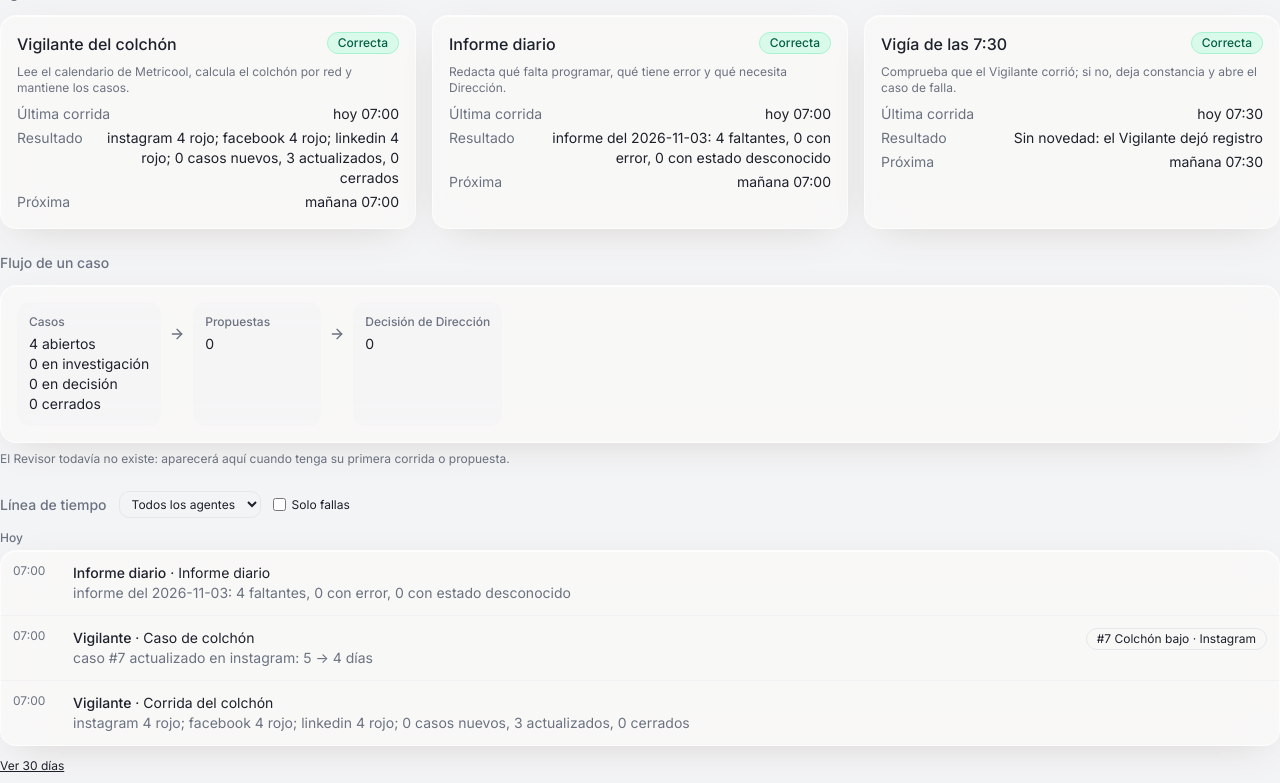
Test case: vista Agentes › la actividad antigua aparece al pedir 30 días
The image size is (1280, 783).
Click the button "Ver 30 días": (32, 766) [0, 758, 64, 774]
(page scrolled)
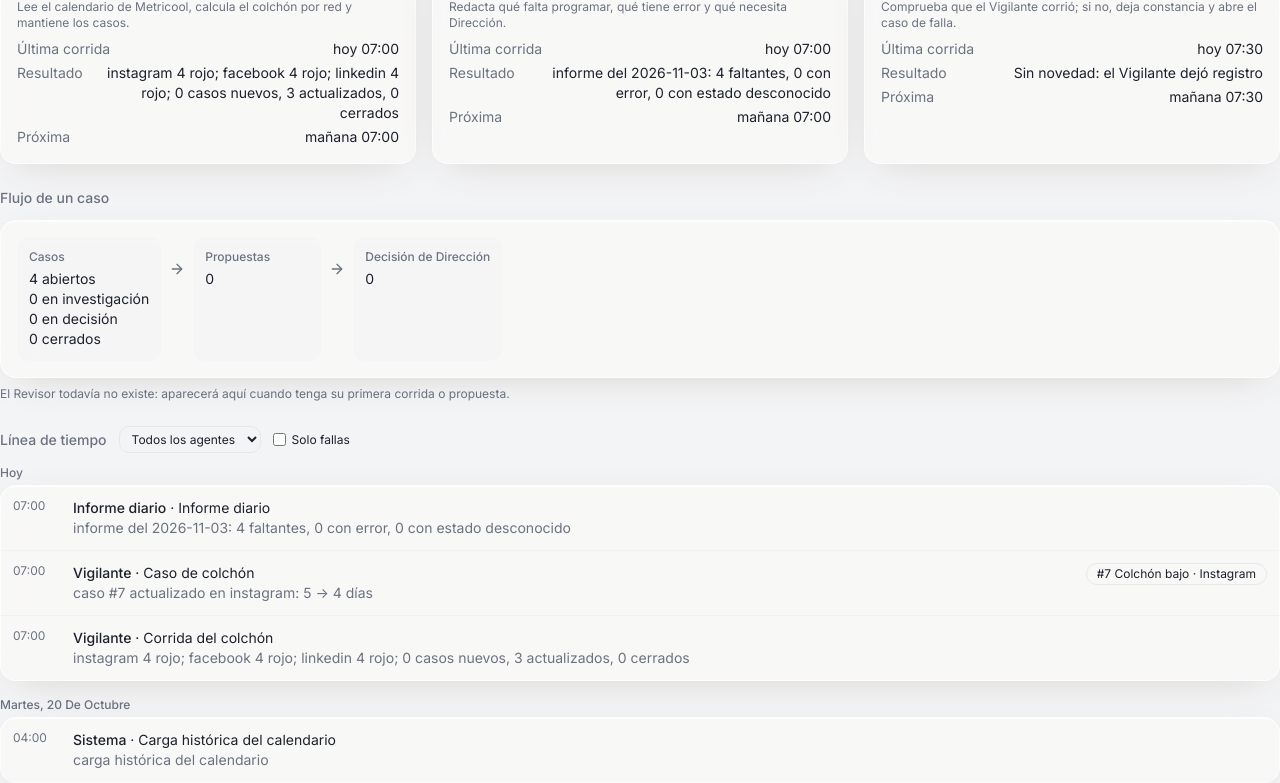
Now the list item with test id "evento-a6" is shown, box [13, 730, 336, 768]
